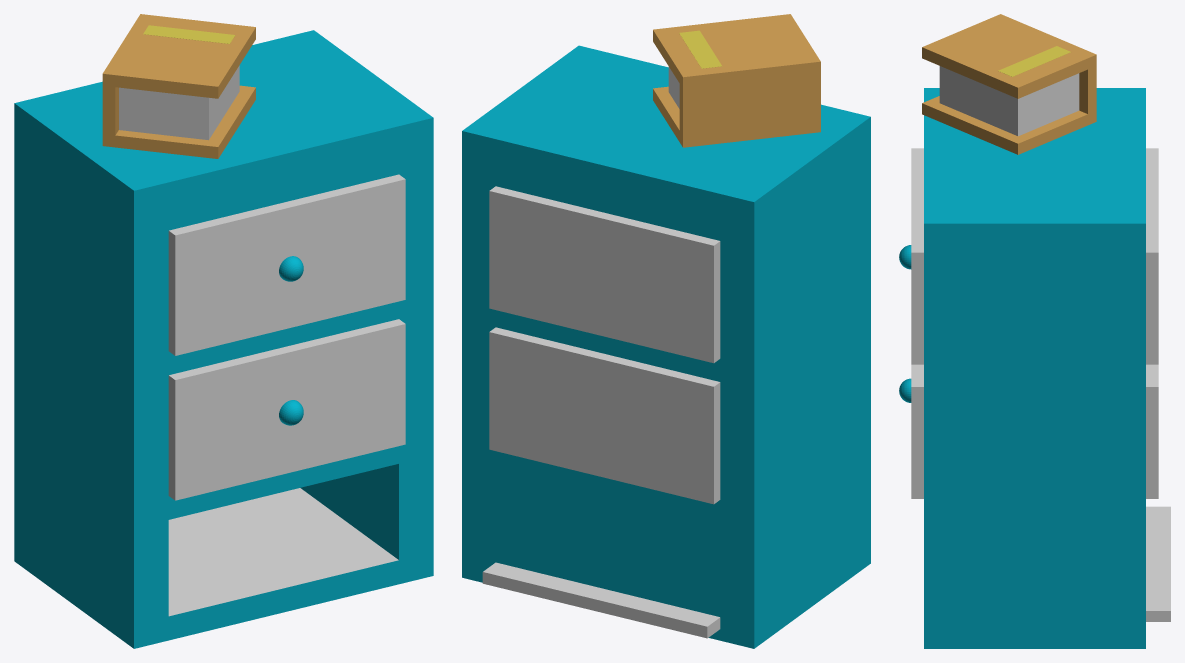
File: Cool Blorr.glb
3 views of the same model, side by side, from view 1: azimuth 30°, elevation 25°; view 2: azimuth 150°, elevation 25°; view 3: azimuth 270°, elevation 25° (orthographic). The views are drawn at different scales.
Parts seen in each view (by area): view 1: Mesh_Mesh_head_geo.001_lambert2SG.001; view 2: Mesh_Mesh_head_geo.001_lambert2SG.001; view 3: Mesh_Mesh_head_geo.001_lambert2SG.001.
Part boxes in pixels (bbox=[...]): Mesh_Mesh_head_geo.001_lambert2SG.001: bbox=[14, 14, 433, 648]; Mesh_Mesh_head_geo.001_lambert2SG.001: bbox=[462, 14, 870, 648]; Mesh_Mesh_head_geo.001_lambert2SG.001: bbox=[899, 14, 1170, 648].
Size of the model in its own units: 26 by 45.01 by 22.
